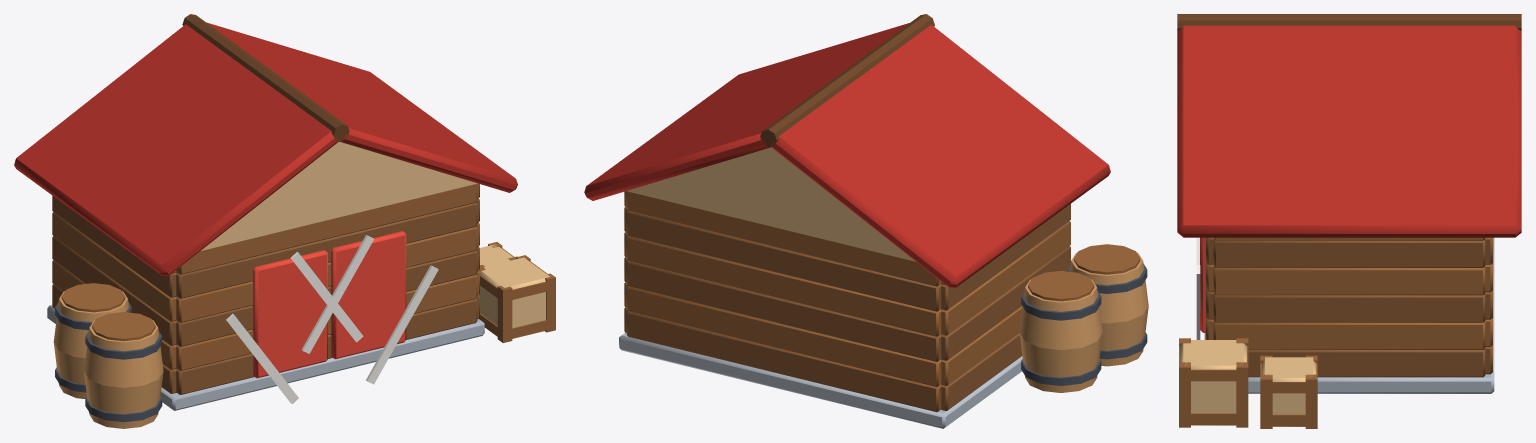
File: home_warehouse.fbx
3 renders of one model, left to right at view 1: azimuth 30°, elevation 25°; view 2: azimuth 150°, elevation 25°; view 3: azimuth 270°, elevation 25°, orthographic. The views are drawn at different scales.
Visible parts, largest first — view 1: home_warehouse; view 2: home_warehouse; view 3: home_warehouse.
Boxes of the visible parts, bbox=[...] form: home_warehouse: bbox=[14, 14, 555, 428]; home_warehouse: bbox=[584, 14, 1148, 428]; home_warehouse: bbox=[1177, 14, 1521, 428].
Size of the model in its own units: 1.95 by 1.15 by 1.14.
